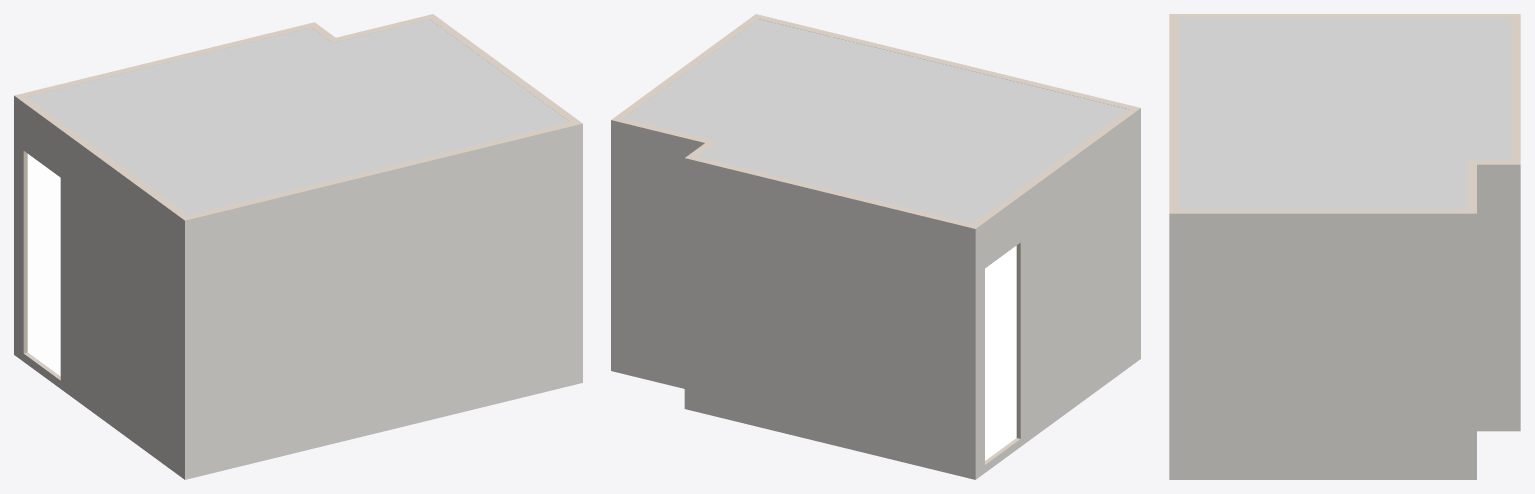
File: room_scan_roomplan.glb
The picture shows the model from 3 angles, left to right: view 1: azimuth 30°, elevation 25°; view 2: azimuth 150°, elevation 25°; view 3: azimuth 270°, elevation 25°; orthographic projection. The views are drawn at different scales.
Parts seen in each view (by area): view 1: Wall_4, Ceiling_Office_0, Wall_5, Door_0, Ceiling_Office_1, Wall_3, Wall_0; view 2: Wall_3, Ceiling_Office_0, Wall_5, Wall_2, Door_0, Ceiling_Office_1, Wall_4, Wall_0; view 3: Wall_0, Ceiling_Office_0, Wall_1, Ceiling_Office_1, Wall_4, Wall_3, Wall_5, Wall_2.
Boxes of the visible parts, bbox=[...] form: Wall_4: bbox=[185, 122, 582, 479]; Ceiling_Office_0: bbox=[46, 19, 569, 215]; Wall_5: bbox=[14, 95, 187, 479]; Door_0: bbox=[27, 154, 60, 376]; Ceiling_Office_1: bbox=[27, 27, 329, 110]; Wall_3: bbox=[14, 22, 314, 96]; Wall_0: bbox=[430, 14, 582, 123]; Wall_3: bbox=[684, 156, 975, 479]; Ceiling_Office_0: bbox=[623, 19, 1128, 210]; Wall_5: bbox=[972, 108, 1140, 479]; Wall_2: bbox=[611, 118, 716, 388]; Door_0: bbox=[985, 245, 1016, 460]; Ceiling_Office_1: bbox=[697, 143, 990, 223]; Wall_4: bbox=[756, 14, 1139, 109]; Wall_0: bbox=[611, 14, 758, 119]; Wall_0: bbox=[1169, 209, 1476, 479]; Ceiling_Office_0: bbox=[1178, 18, 1472, 209]; Wall_1: bbox=[1468, 160, 1520, 431]; Ceiling_Office_1: bbox=[1472, 18, 1511, 160]; Wall_4: bbox=[1169, 14, 1178, 213]; Wall_3: bbox=[1511, 14, 1520, 164]; Wall_5: bbox=[1170, 14, 1519, 17]; Wall_2: bbox=[1467, 161, 1476, 213].
Bounding box in the file's own units: 5.04 × 3.14 × 3.75.
Materials: 11 (3 with a texture image).
